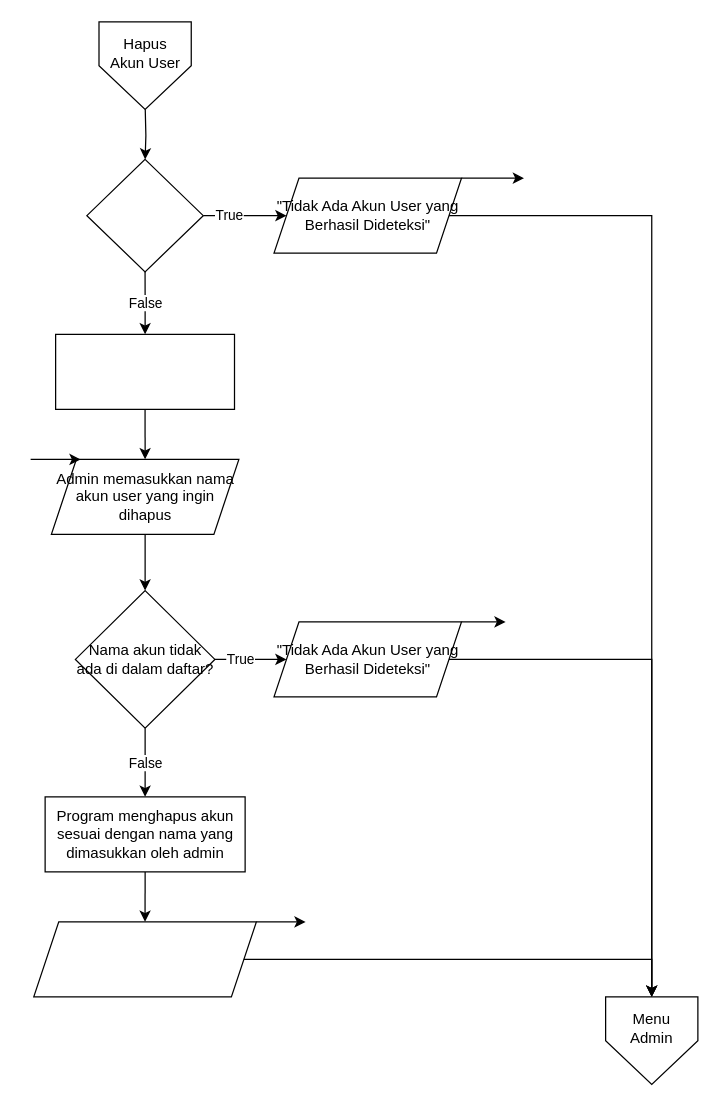
Image size: 720x1106. Some labels were removed from this diagram. The box of each missing label's shape, as (x1, y1, x2, y2) in pixels:
"Berhasil Menghapus Akun Bernama {nama akun} dari Daftar Akun User": (32, 921, 256, 997)
Daftar akun user kosong?: (86, 158, 203, 272)
Program menampilkan daftar nama akun user beserta saldonya: (54, 333, 234, 409)
